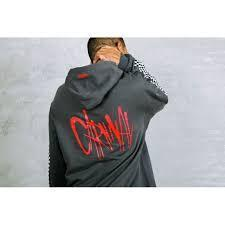sweater: (42, 56, 170, 193)
